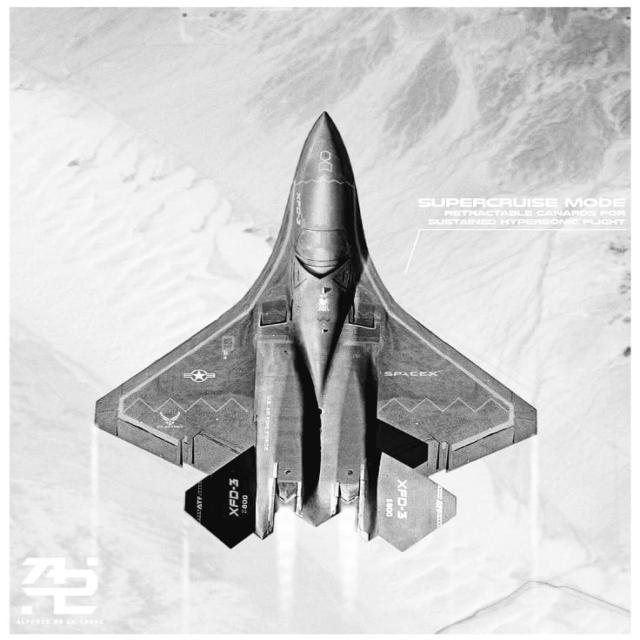iha: (31, 48, 536, 550)
